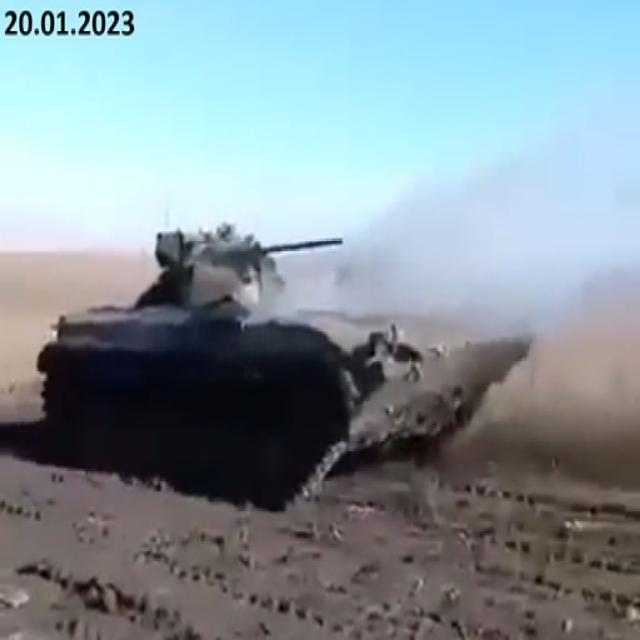APC-IFV: (34, 182, 538, 511)
